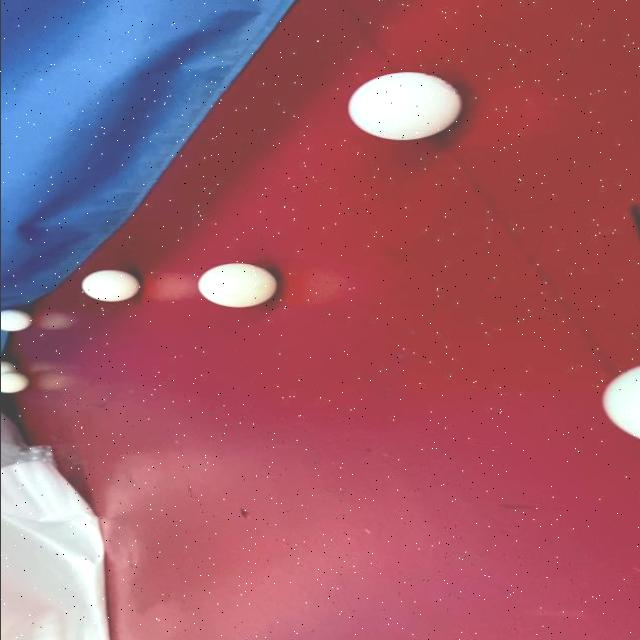ping-pong-ball: (344, 69, 466, 142), (190, 261, 282, 310), (76, 268, 142, 304), (1, 305, 34, 333), (0, 368, 29, 395)
